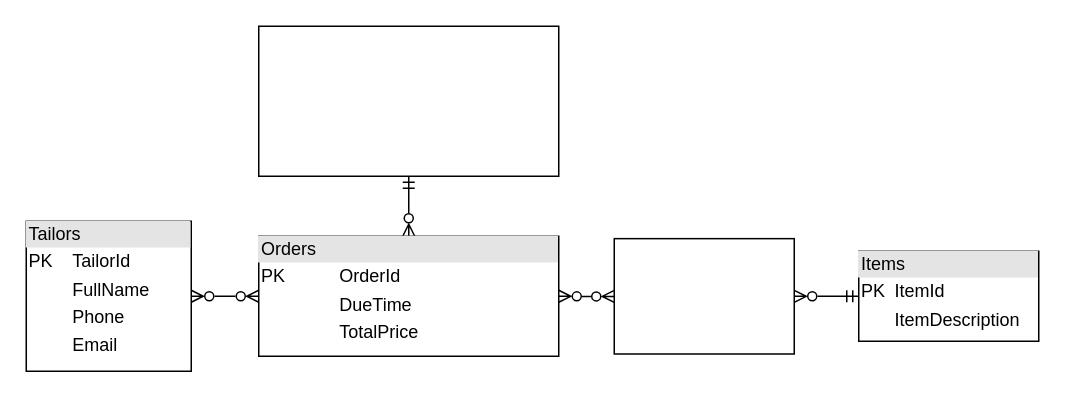
Image size: 1065x398. Some labels were removed from this diagram. Each missing label, with the centre of its shape:
"Clients PK ClientId FullName Phone Name" goes at point (408, 100).
"Operations PK OperationId OperationType Price" goes at point (703, 295).
